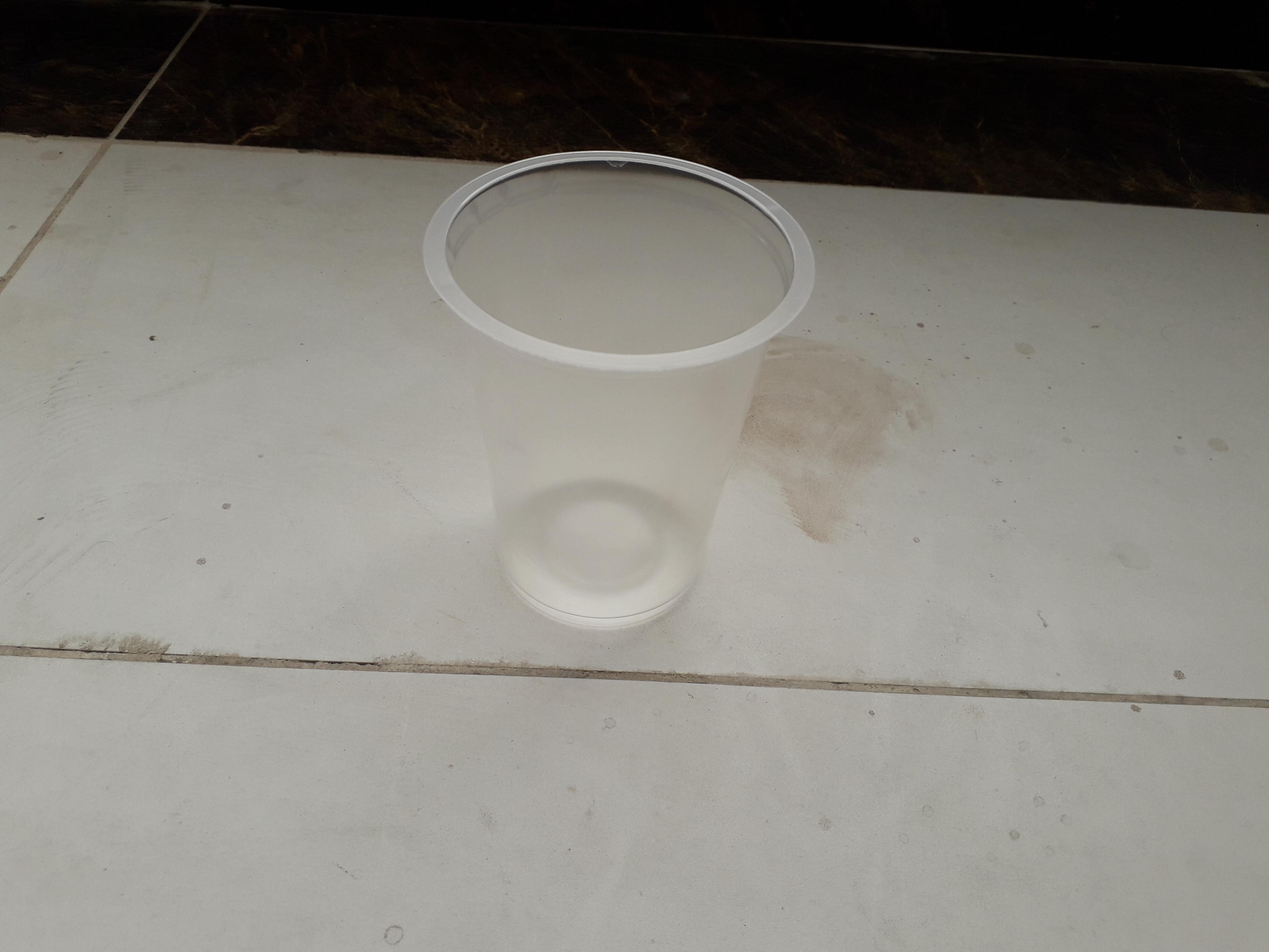cup-disposable: (418, 144, 816, 633)
